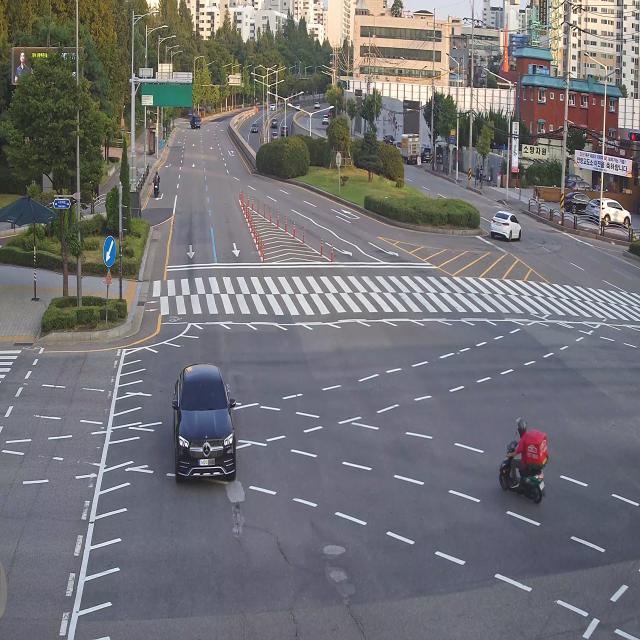Car: (161, 352, 251, 506), (488, 203, 526, 252)
Motorcycle: (485, 414, 552, 512), (152, 165, 166, 209)
